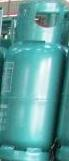cylinder: (0, 1, 69, 161)
